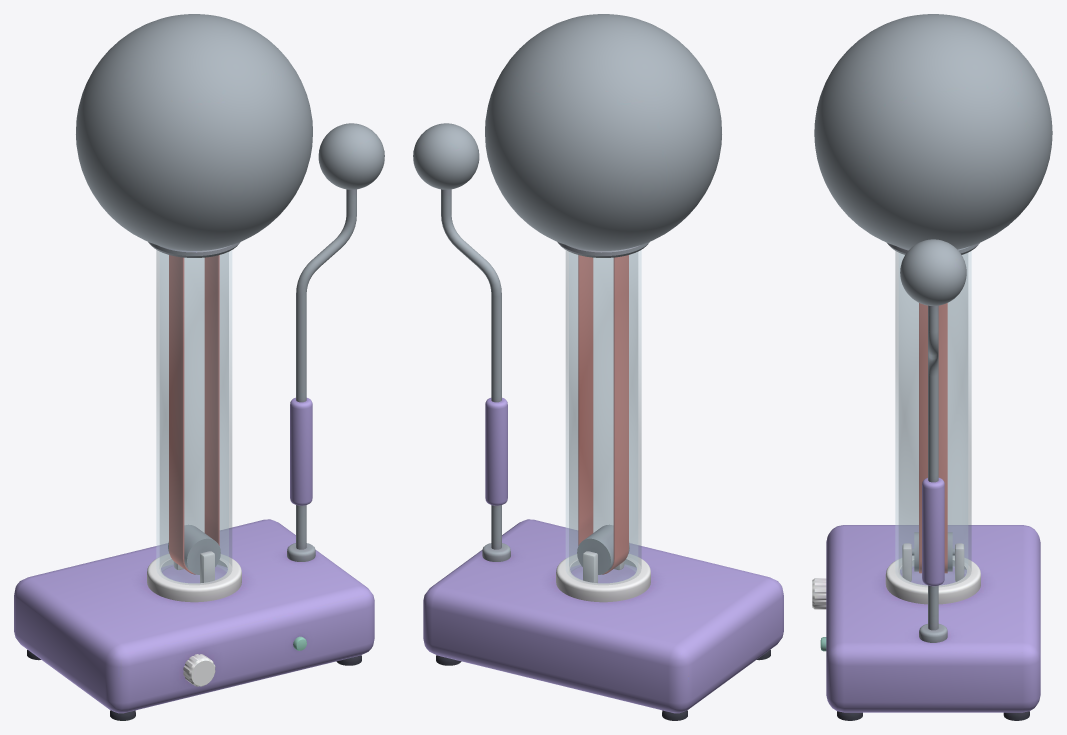
Rendered from van-de-graaff-generator.glb.
The picture shows the model from 3 angles, left to right: view 1: azimuth 30°, elevation 25°; view 2: azimuth 150°, elevation 25°; view 3: azimuth 270°, elevation 25°; orthographic projection.
Parts seen in each view (by area): view 1: van-de-graaff-generator_body, van-de-graaff-generator_column_glass; view 2: van-de-graaff-generator_body, van-de-graaff-generator_column_glass; view 3: van-de-graaff-generator_body, van-de-graaff-generator_column_glass.
Part boxes in pixels (x1,y1,x2,y2): van-de-graaff-generator_body: (14, 14, 384, 720); van-de-graaff-generator_column_glass: (156, 250, 231, 584); van-de-graaff-generator_body: (413, 14, 783, 720); van-de-graaff-generator_column_glass: (566, 250, 641, 584); van-de-graaff-generator_body: (812, 14, 1052, 720); van-de-graaff-generator_column_glass: (895, 251, 971, 586).
Bounding box in the file's own units: 0.311 × 0.588 × 0.2016.
Materials: 2 (1 with a texture image).
